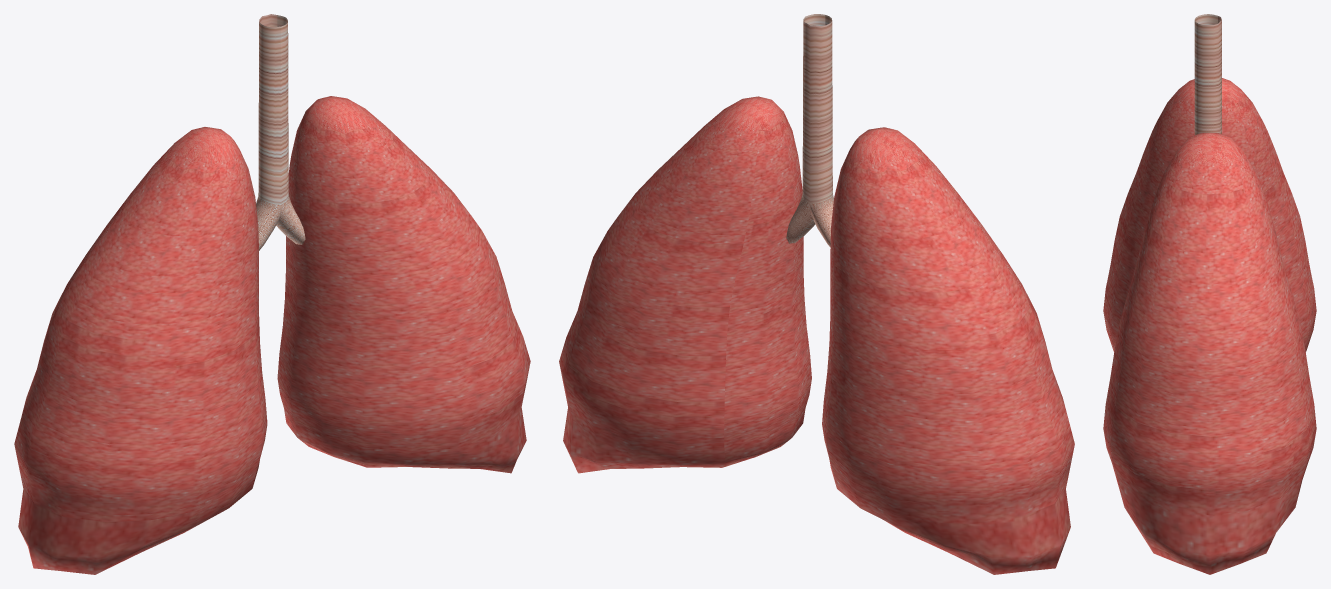
Rendered from Lunge.fbx.
3 renders of one model, left to right at view 1: azimuth 30°, elevation 25°; view 2: azimuth 150°, elevation 25°; view 3: azimuth 270°, elevation 25°, orthographic. The views are drawn at different scales.
Parts seen in each view (by area): view 1: polySurface3; view 2: polySurface3; view 3: polySurface3.
Boxes of the visible parts, x1,y1,x2,y2 form: polySurface3: (14, 14, 530, 574); polySurface3: (559, 14, 1074, 574); polySurface3: (1103, 14, 1316, 574).
Size of the model in its own units: 12.46 by 11.93 by 5.13.
Materials: 2 (2 with a texture image).
